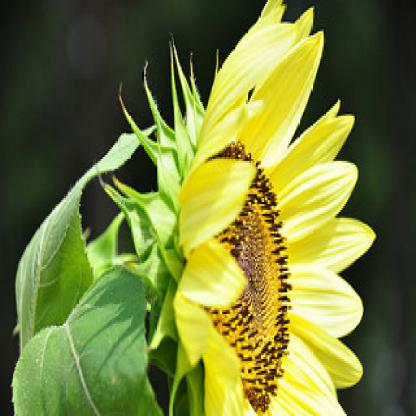SUN FLOWER: (90, 15, 376, 415)
